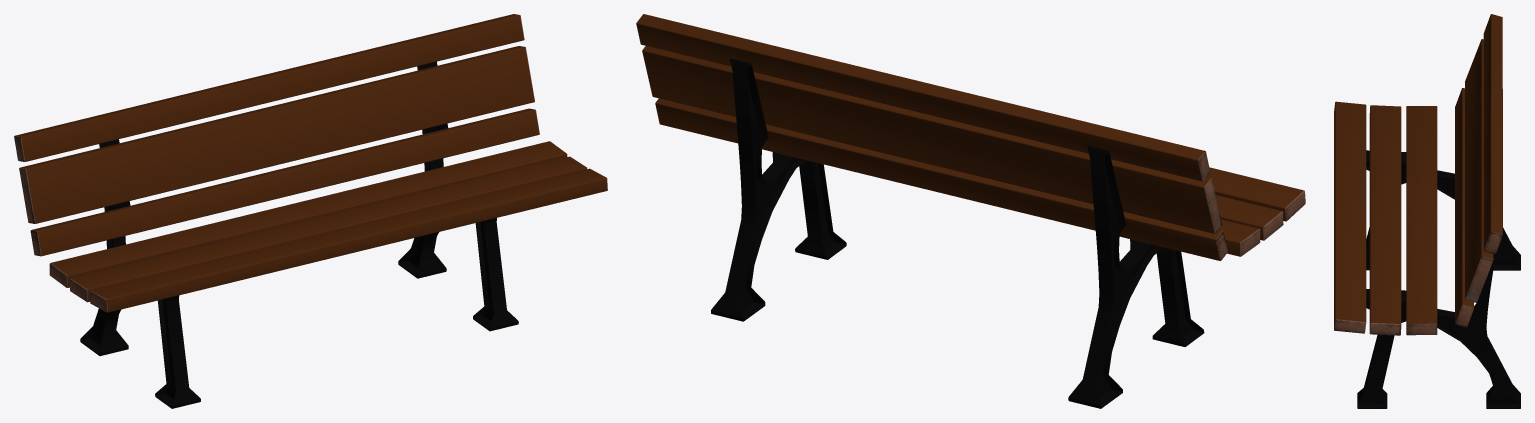
Rendered from bench.glb.
3 views of the same model, side by side, from view 1: azimuth 30°, elevation 25°; view 2: azimuth 150°, elevation 25°; view 3: azimuth 270°, elevation 25° (orthographic). The views are drawn at different scales.
Visible parts, largest first — view 1: Cube.001, Cube.003, Cube.002; view 2: Cube.001, Cube.003, Cube.002; view 3: Cube.001, Cube.003, Cube.002.
Boxes of the visible parts, bbox=[...] form: Cube.001: bbox=[15, 14, 607, 312]; Cube.003: bbox=[80, 61, 518, 408]; Cube.002: bbox=[14, 15, 607, 312]; Cube.001: bbox=[636, 14, 1303, 260]; Cube.003: bbox=[711, 58, 1204, 408]; Cube.002: bbox=[636, 14, 1305, 260]; Cube.001: bbox=[1334, 14, 1502, 330]; Cube.003: bbox=[1357, 150, 1520, 408]; Cube.002: bbox=[1334, 101, 1502, 335].
Size of the model in its own units: 2 by 0.8992 by 0.723.
3 materials, 1 textured.
